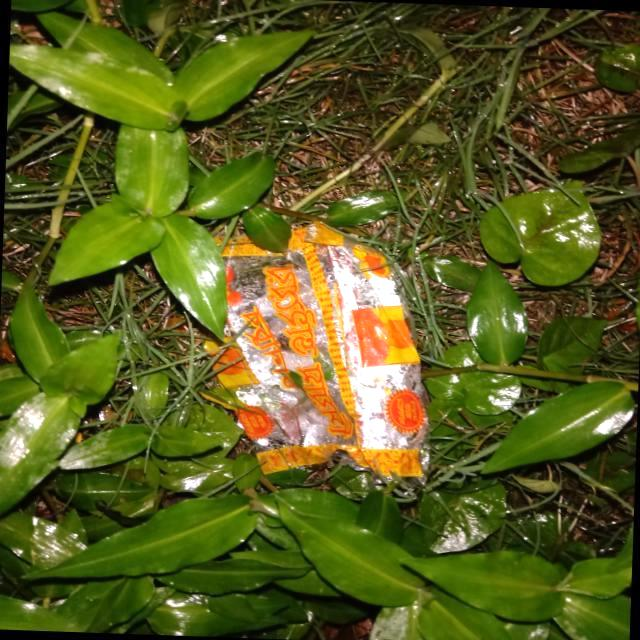packet: (199, 211, 417, 485)
